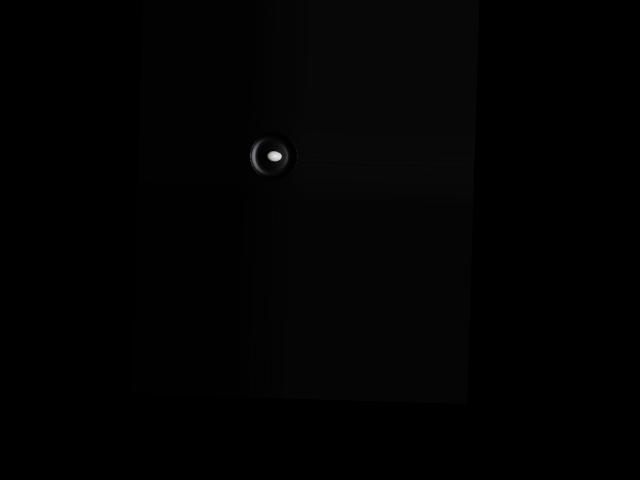egg: (266, 150, 281, 161)
